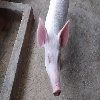heo: (35, 10, 70, 96)
